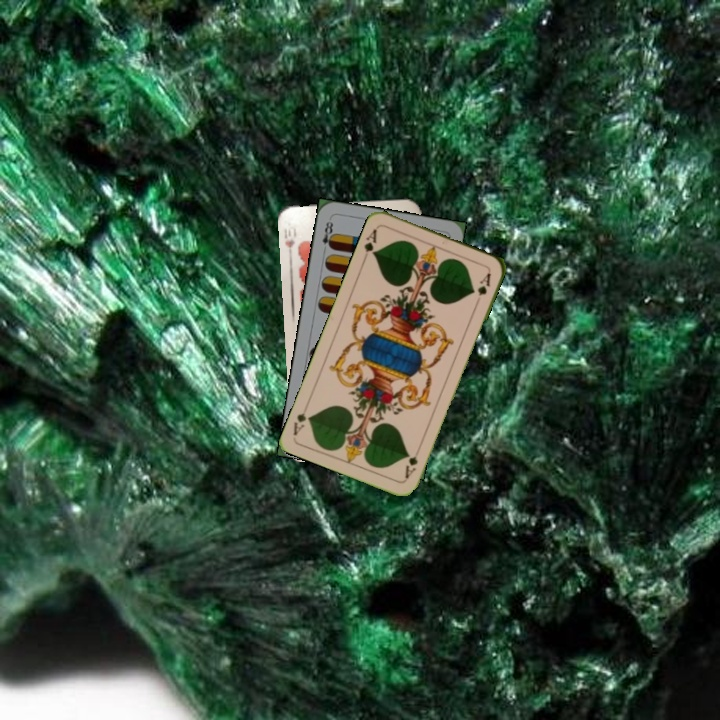E8: (318, 215, 337, 255)
GA: (359, 224, 380, 263), (401, 452, 420, 481)
H10: (280, 220, 299, 259)
